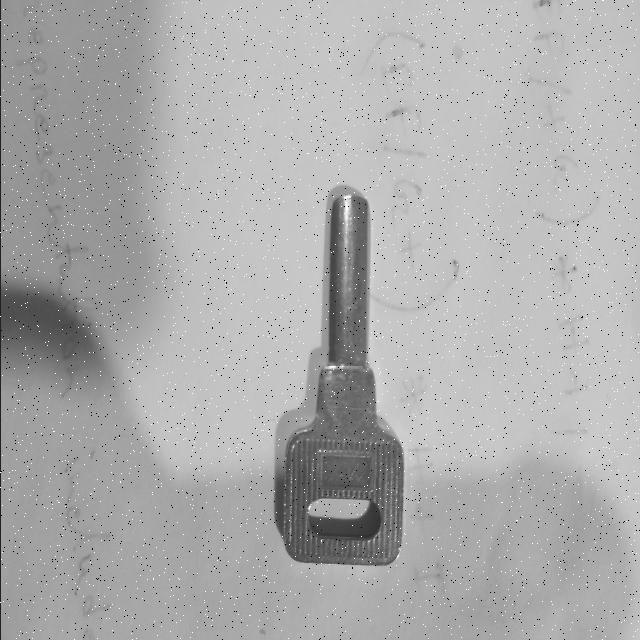key: (276, 194, 403, 565)
